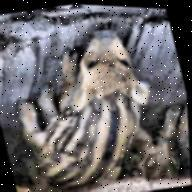boar: (5, 13, 169, 192), (134, 138, 177, 189)
